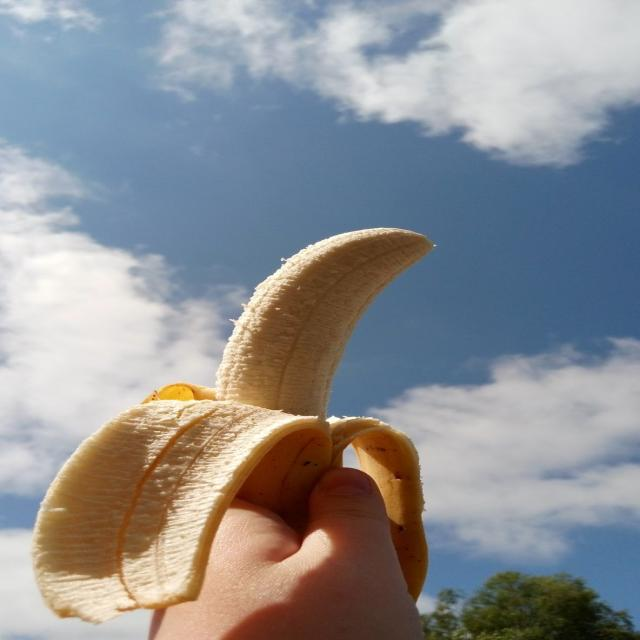banana: (34, 229, 432, 622)
